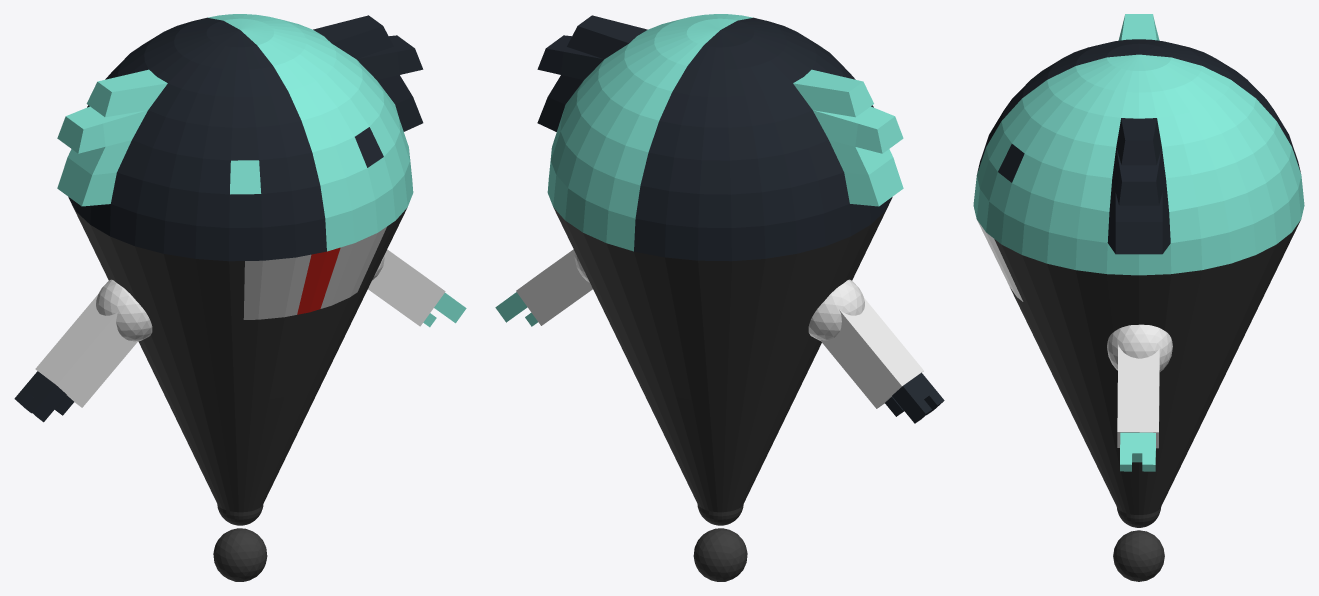
File: DimBot(Inky).fbx
3 views of the same model, side by side, from view 1: azimuth 30°, elevation 25°; view 2: azimuth 150°, elevation 25°; view 3: azimuth 270°, elevation 25° (orthographic). The views are drawn at different scales.
Visible parts, largest first — view 1: Cylinder; view 2: Cylinder; view 3: Cylinder.
Boxes of the visible parts, left/top/right/bottom form: Cylinder: left=14, top=14, right=466, bottom=581; Cylinder: left=495, top=14, right=944, bottom=581; Cylinder: left=973, top=14, right=1304, bottom=581.
Size of the model in its own units: 474 by 576 by 329.
